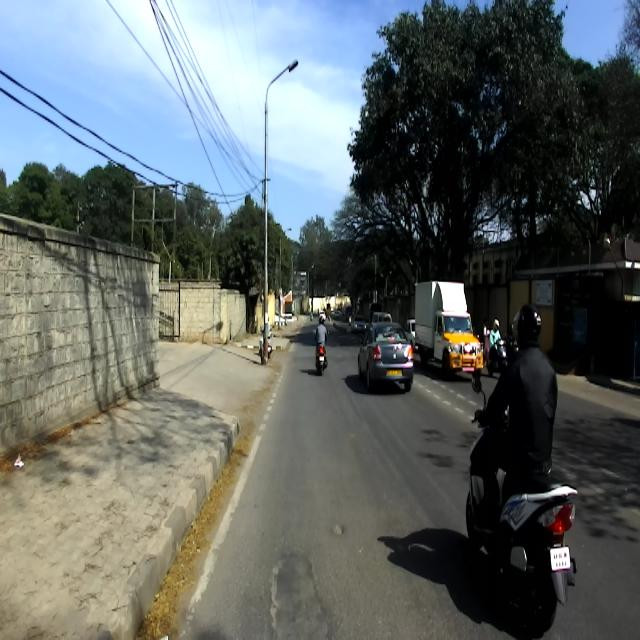car ahead at: (354, 315, 417, 394)
electric pole ahead at: (258, 52, 300, 367)
motorcycle ahead at: (468, 457, 576, 614)
